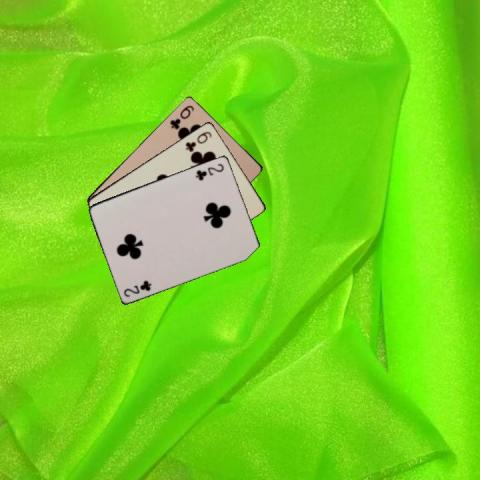2c: (193, 160, 225, 182), (120, 277, 152, 298)
6c: (167, 102, 195, 131), (183, 128, 213, 153)
